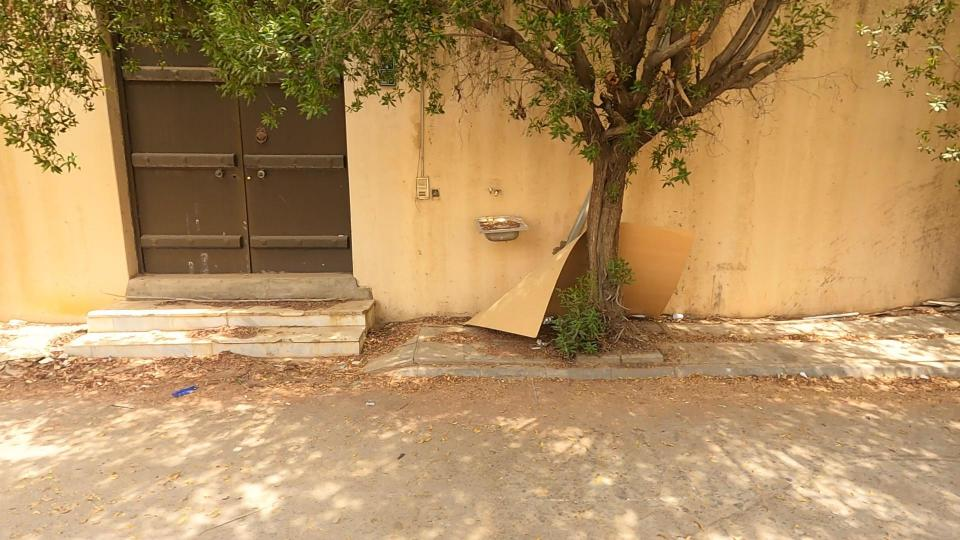GARBAGE: (395, 167, 746, 416), (138, 358, 224, 430)
